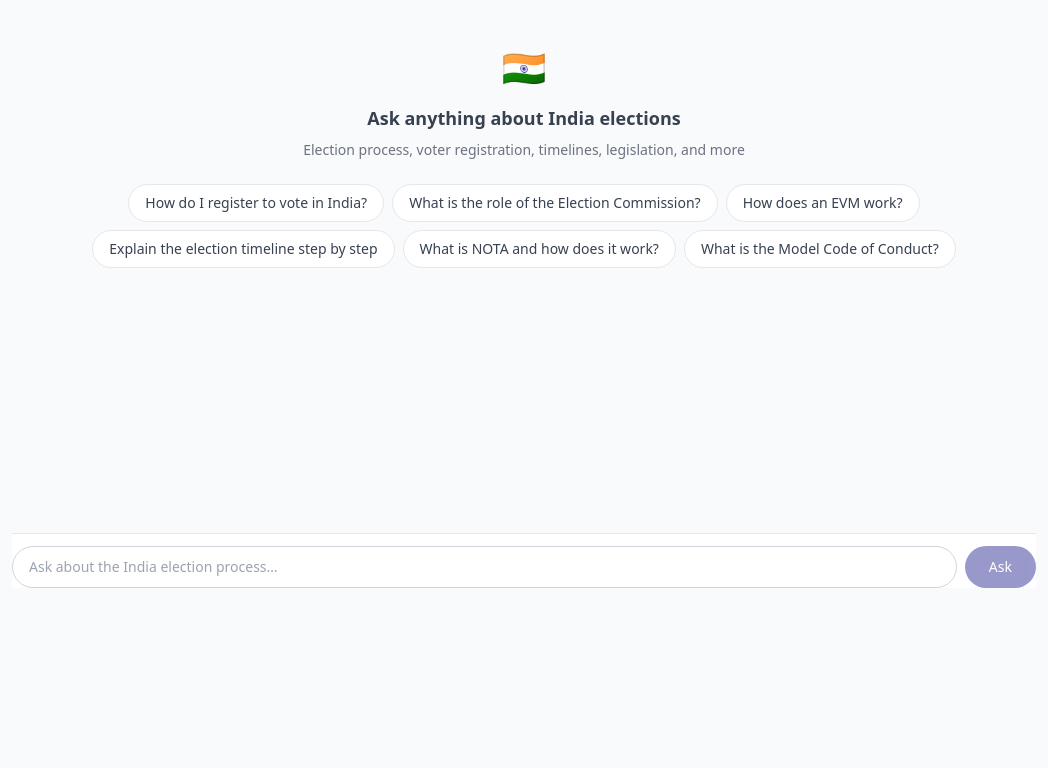
Test case: Chat › displays error on non-ok response
In the field with placeholder "Ask about the India election process…": [484, 567] box [12, 546, 957, 588], type "Test"
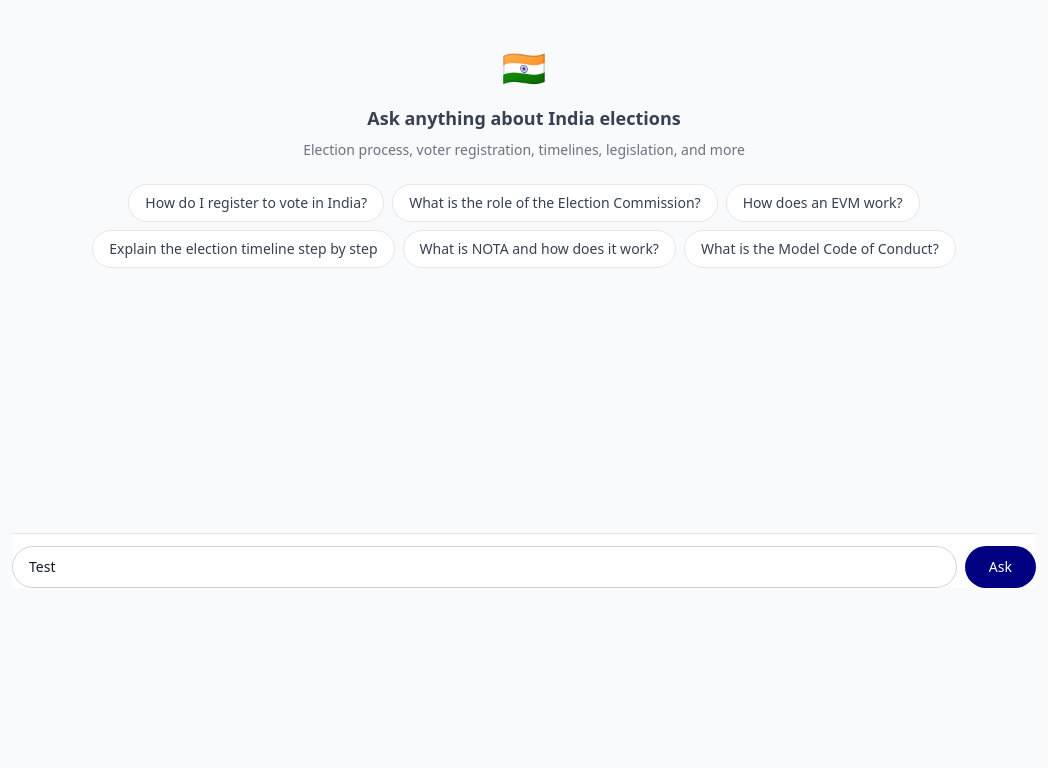
Click the button with aria-label "Submit question": [1000, 567] box [965, 546, 1036, 588]
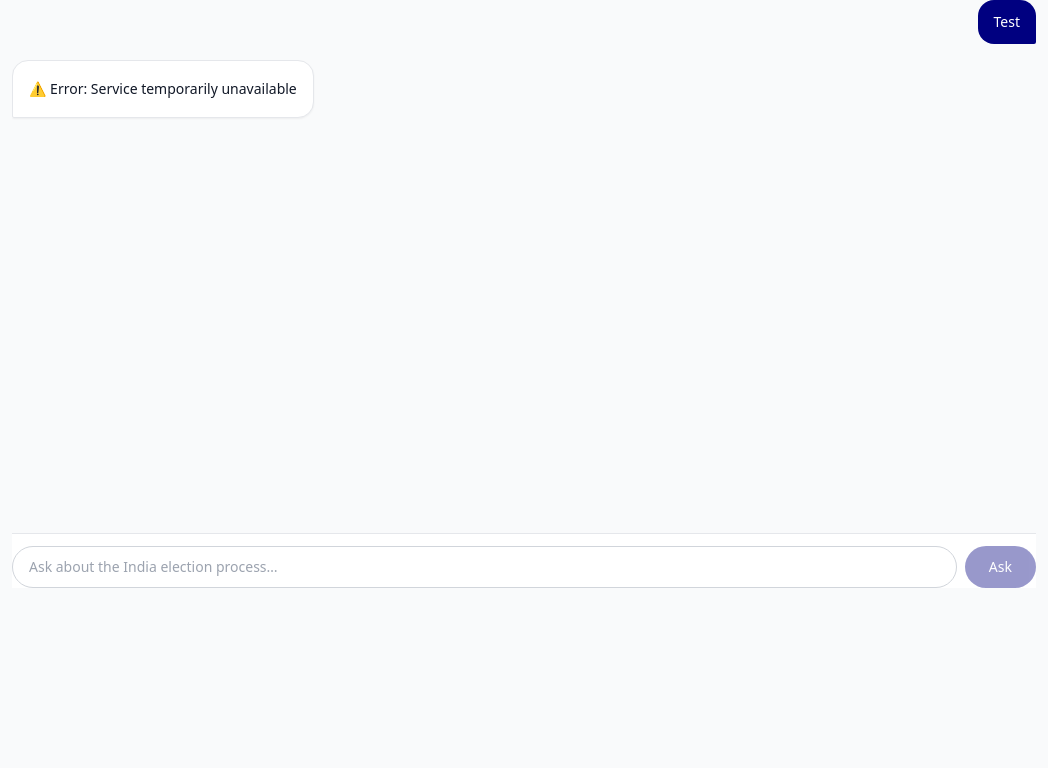
Expected: the text "⚠️ Error: Service temporarily unavailable" is shown, [29, 79, 297, 99]
